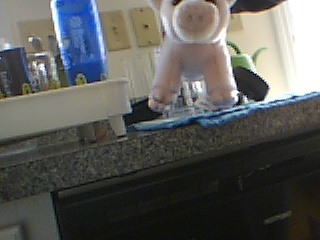piggy: (146, 1, 241, 116)
